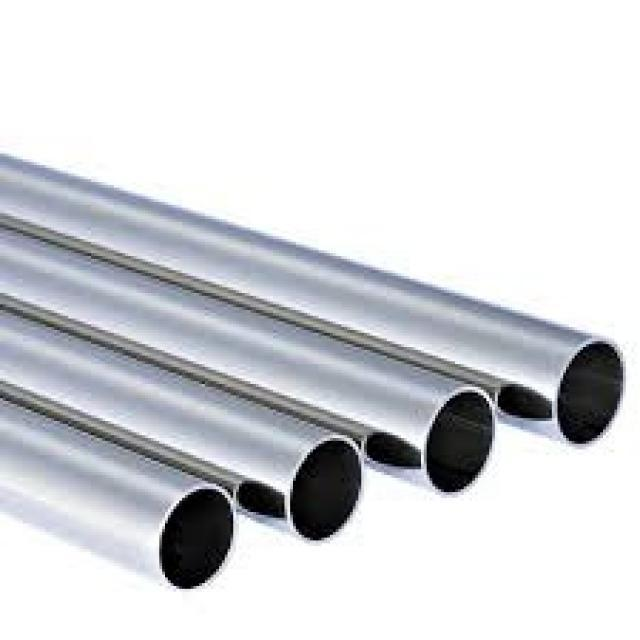pipe: (160, 490, 231, 590), (291, 441, 362, 540), (559, 343, 624, 444), (428, 393, 493, 493), (209, 522, 209, 523)
